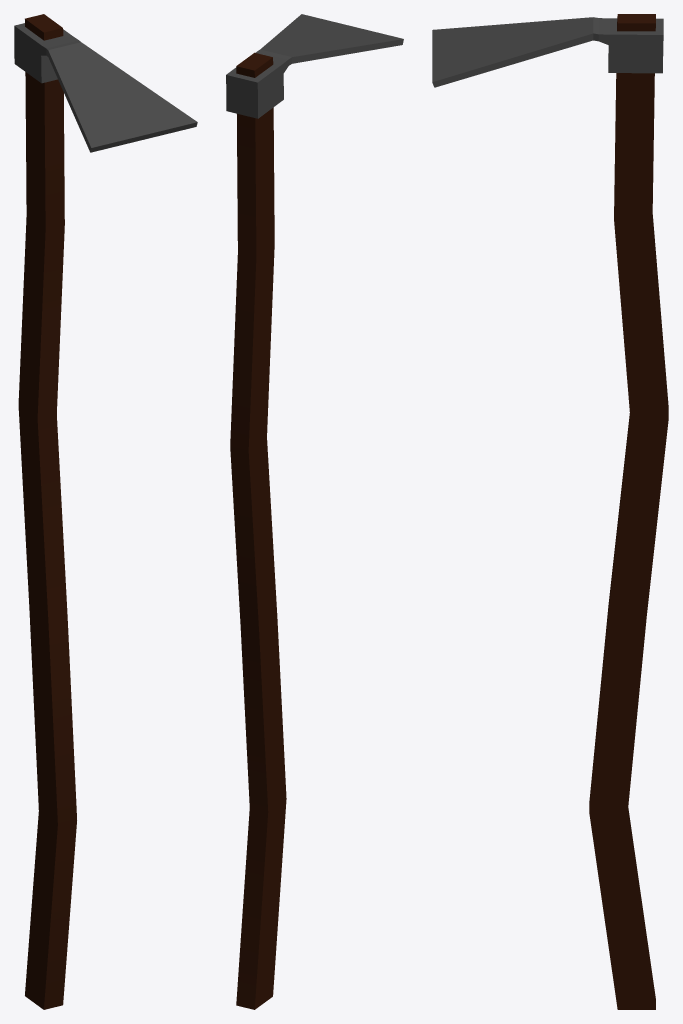
File: HoeLowPoly.FBX
3 views of the same model, side by side, from view 1: azimuth 30°, elevation 25°; view 2: azimuth 150°, elevation 25°; view 3: azimuth 270°, elevation 25° (orthographic). The views are drawn at different scales.
Parts seen in each view (by area): view 1: Houe; view 2: Houe; view 3: Houe.
Boxes of the visible parts, bbox=[...] form: Houe: bbox=[14, 14, 197, 1009]; Houe: bbox=[226, 14, 403, 1009]; Houe: bbox=[432, 14, 668, 1009].
Size of the model in its own units: 4.3 by 37.74 by 8.2.
